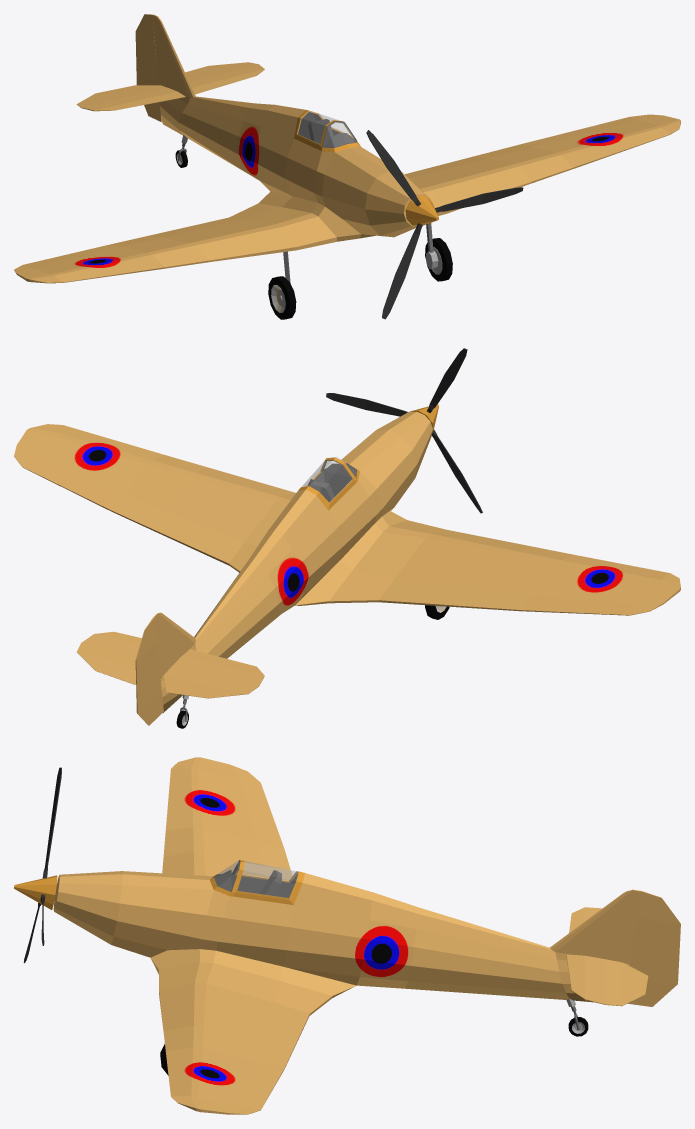
3 renders of one model, top to bottom at view 1: azimuth 30°, elevation 25°; view 2: azimuth 150°, elevation 25°; view 3: azimuth 270°, elevation 25°, orthographic. The views are drawn at different scales.
Visible parts, largest first — view 1: Body.002, propeller.002, Rudder.002, Landing gear_FR.002, Landing gear_FL.002, Circle.003, L_ailerone.002, R_ailerone.002; view 2: Body.002, L_ailerone.002, R_ailerone.002, propeller.002, Rudder.002, Circle.003, R_elevator.002, L_elevator.002; view 3: Body.002, Rudder.002, R_ailerone.002, Circle.003, L_ailerone.002, propeller.002, L_elevator.002.
Boxes of the visible parts, x1,y1,x2,y2 form: Body.002: (14, 14, 680, 283); propeller.002: (366, 130, 523, 319); Rudder.002: (135, 14, 162, 122); Landing gear_FR.002: (268, 251, 296, 319); Landing gear_FL.002: (425, 223, 452, 281); Circle.003: (296, 110, 353, 146); L_ailerone.002: (473, 117, 638, 158); R_ailerone.002: (23, 235, 162, 267); Body.002: (14, 411, 680, 712); L_ailerone.002: (22, 456, 162, 528); R_ailerone.002: (473, 589, 638, 615); propeller.002: (326, 348, 482, 513); Rudder.002: (135, 617, 163, 725); Circle.003: (300, 459, 354, 504); R_elevator.002: (163, 675, 247, 698); L_elevator.002: (77, 652, 135, 684); Body.002: (53, 757, 642, 1114); Rudder.002: (628, 891, 680, 1006); R_ailerone.002: (240, 778, 292, 875); Circle.003: (234, 860, 300, 900); L_ailerone.002: (240, 1042, 292, 1109); propeller.002: (14, 767, 61, 963); L_elevator.002: (621, 962, 648, 1005).
Size of the model in its own units: 1627 by 526 by 1302.
